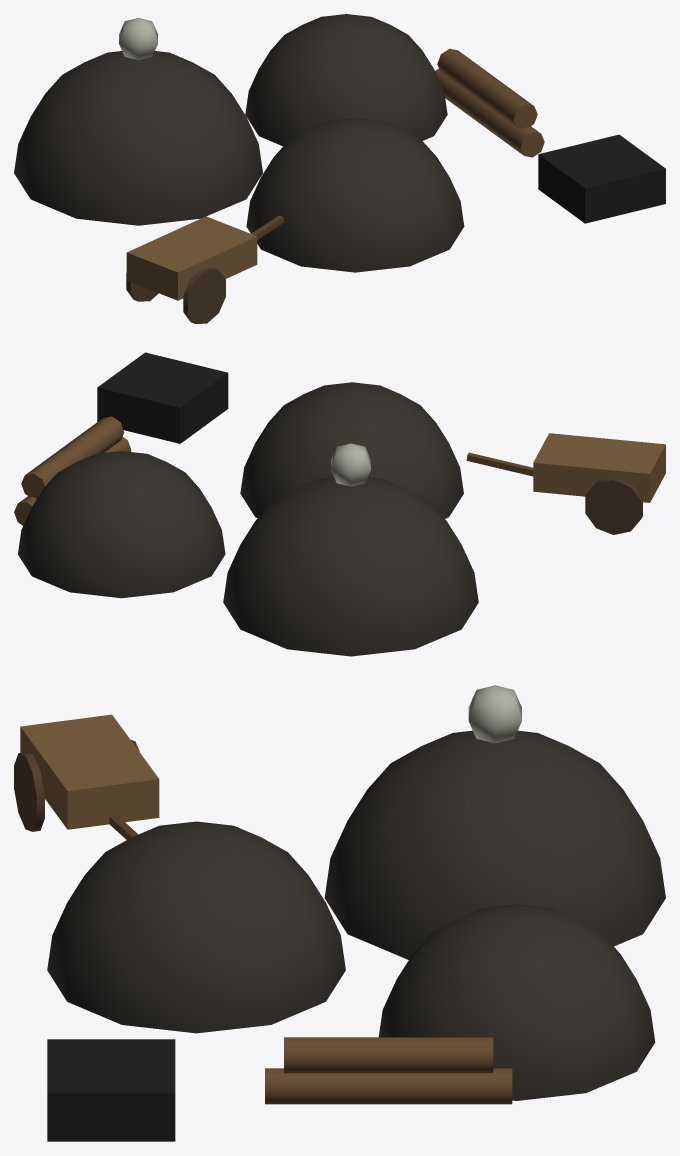
File: procedural_coal@3.glb
3 renders of one model, top to bottom at view 1: azimuth 30°, elevation 25°; view 2: azimuth 150°, elevation 25°; view 3: azimuth 270°, elevation 25°, orthographic. The views are drawn at different scales.
Visible parts, largest first — view 1: part_0, part_4; view 2: part_0, part_4; view 3: part_0, part_4.
Boxes of the visible parts, x1,y1,x2,y2 form: part_0: (14, 14, 665, 323); part_4: (119, 18, 157, 60); part_0: (14, 352, 665, 656); part_4: (331, 443, 370, 486); part_0: (14, 714, 665, 1141); part_4: (468, 685, 521, 743).
Size of the model in its own units: 7.65 by 2.19 by 6.11.
